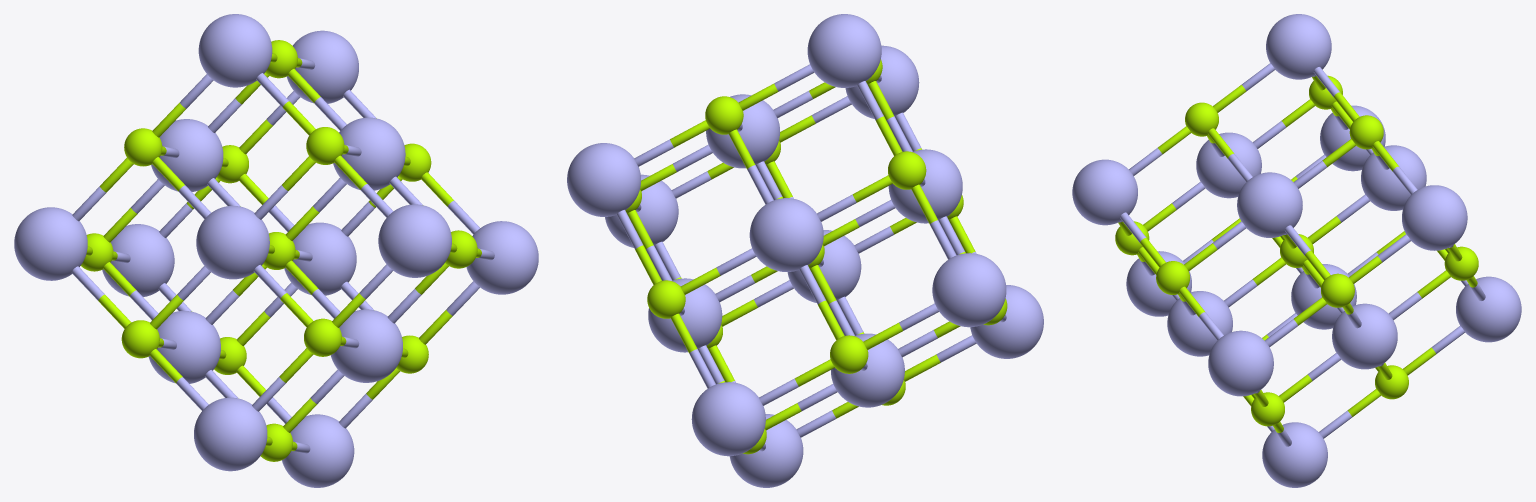
The model's file is NaCl.glb.
3 renders of one model, left to right at view 1: azimuth 30°, elevation 25°; view 2: azimuth 150°, elevation 25°; view 3: azimuth 270°, elevation 25°, orthographic. The views are drawn at different scales.
Parts seen in each view (by area): view 1: CMAtom_24, CMAtom_26, CMAtom_12, CMAtom_16, CMAtom_13, CMAtom_18, CMAtom_22, CMAtom_19, CMAtom_2, CMAtom_0, CMAtom_3, CMAtom_8 (+15 smaller); view 2: CMAtom_16, CMAtom_8, CMAtom_12, CMAtom_1, CMAtom_0, CMAtom_26, CMAtom_9, CMAtom_22, CMAtom_13, CMAtom_3, CMAtom_2, CMAtom_24 (+6 smaller); view 3: CMAtom_18, CMAtom_0, CMAtom_24, CMAtom_2, CMAtom_12, CMAtom_3, CMAtom_8, CMAtom_22, CMAtom_19, CMAtom_1, CMAtom_13, CMAtom_26 (+12 smaller).
Part boxes in pixels (box(x1,y1,x2,y2)): CMAtom_24: box(378, 204, 451, 277); CMAtom_26: box(194, 397, 267, 471); CMAtom_12: box(198, 14, 272, 87); CMAtom_16: box(14, 207, 87, 280); CMAtom_13: box(196, 205, 269, 279); CMAtom_18: box(466, 221, 538, 294); CMAtom_22: box(282, 414, 354, 487); CMAtom_19: box(330, 309, 402, 382); CMAtom_2: box(333, 117, 405, 190); CMAtom_0: box(287, 30, 358, 103); CMAtom_3: box(284, 222, 356, 295); CMAtom_8: box(102, 224, 174, 297); CMAtom_16: box(932, 253, 1006, 327); CMAtom_8: box(691, 382, 765, 456); CMAtom_12: box(807, 14, 881, 87); CMAtom_1: box(749, 198, 823, 271); CMAtom_0: box(567, 143, 640, 216); CMAtom_26: box(970, 285, 1043, 358); CMAtom_9: box(831, 333, 904, 407); CMAtom_22: box(729, 414, 803, 487); CMAtom_13: box(888, 149, 962, 223); CMAtom_3: box(648, 278, 722, 352); CMAtom_2: box(706, 94, 779, 168); CMAtom_24: box(845, 45, 919, 118); CMAtom_18: box(1208, 330, 1273, 396); CMAtom_0: box(1402, 185, 1467, 250); CMAtom_24: box(1072, 159, 1137, 225); CMAtom_2: box(1237, 172, 1302, 237); CMAtom_12: box(1266, 14, 1331, 79); CMAtom_3: box(1332, 303, 1397, 369); CMAtom_8: box(1456, 276, 1521, 342); CMAtom_22: box(1262, 422, 1327, 487); CMAtom_19: box(1167, 291, 1232, 356); CMAtom_1: box(1361, 145, 1426, 210); CMAtom_13: box(1196, 132, 1261, 198); CMAtom_26: box(1126, 251, 1191, 316).
Bounding box in the file's own units: 10.83 × 11.11 × 10.44.
